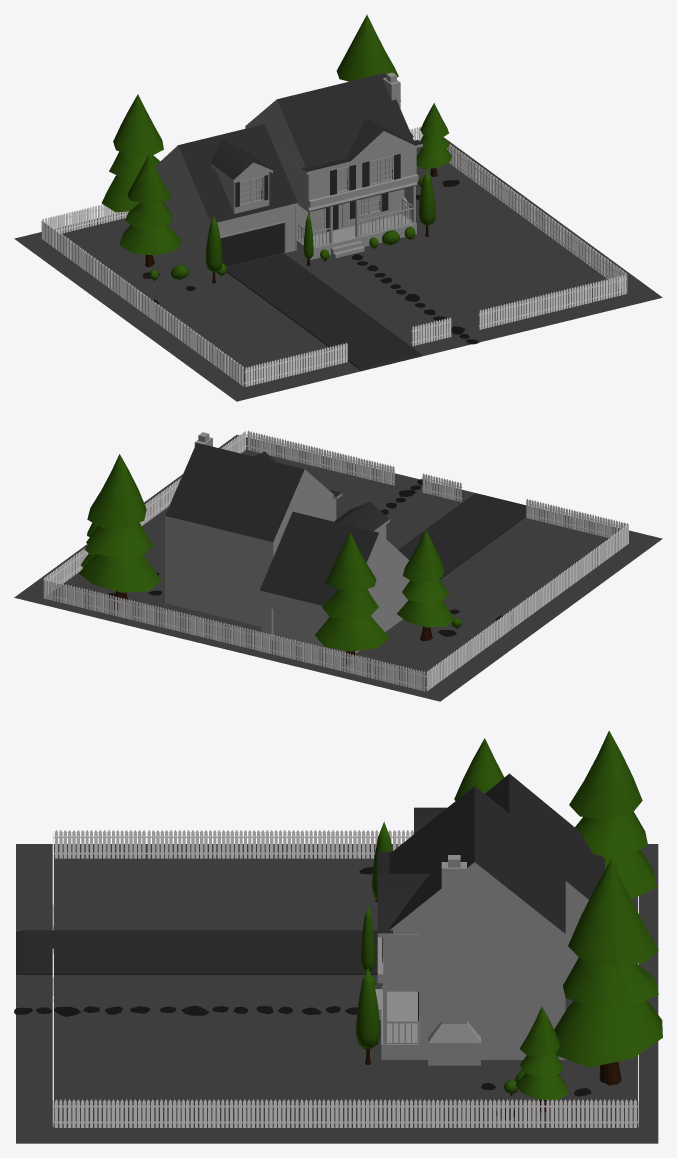
Rendered from House.FBX.
3 renders of one model, top to bottom at view 1: azimuth 30°, elevation 25°; view 2: azimuth 150°, elevation 25°; view 3: azimuth 270°, elevation 25°, orthographic. The views are drawn at different scales.
Visible parts, largest first — view 1: Floor, Walls, Fence, Roof, Road, Follage_11, Follage_12, Windows, Follage_13, Garage_door, Follage_14, Window_dark (+3 smaller); view 2: Floor, Fence, Walls, Roof, Follage_13, Follage_12, Road, Follage_11, Stone; view 3: Floor, Fence, Walls, Roof, Road, Follage_13, Follage_12, Chimney, Follage_14, Stone, Follage_05, Follage_11 (+2 smaller).
Part boxes in pixels (<box>): Floor: <box>14,137,662,401</box>; Walls: <box>155,99,422,271</box>; Fence: <box>41,126,627,386</box>; Roof: <box>178,73,422,222</box>; Road: <box>226,253,422,370</box>; Follage_11: <box>119,155,181,255</box>; Follage_12: <box>101,94,163,212</box>; Windows: <box>220,155,415,253</box>; Follage_13: <box>336,14,413,137</box>; Garage_door: <box>220,223,284,266</box>; Follage_14: <box>416,103,451,169</box>; Window_dark: <box>235,154,400,219</box>; Floor: <box>14,435,662,701</box>; Fence: <box>43,430,628,691</box>; Walls: <box>165,469,409,657</box>; Roof: <box>165,443,389,605</box>; Follage_13: <box>79,454,161,592</box>; Follage_12: <box>315,532,389,651</box>; Road: <box>398,493,536,579</box>; Follage_11: <box>397,529,454,627</box>; Stone: <box>148,479,504,636</box>; Floor: <box>16,844,658,1143</box>; Fence: <box>52,830,638,1127</box>; Walls: <box>375,862,588,1059</box>; Roof: <box>377,773,604,933</box>; Road: <box>16,930,377,974</box>; Follage_13: <box>554,859,662,1067</box>; Follage_12: <box>569,730,656,898</box>; Chimney: <box>428,855,480,1065</box>; Follage_14: <box>515,1006,569,1099</box>; Stone: <box>14,867,514,1119</box>; Follage_05: <box>355,968,380,1048</box>; Follage_11: <box>454,738,504,800</box>.
Size of the model in its own units: 2175 by 760 by 1989.
